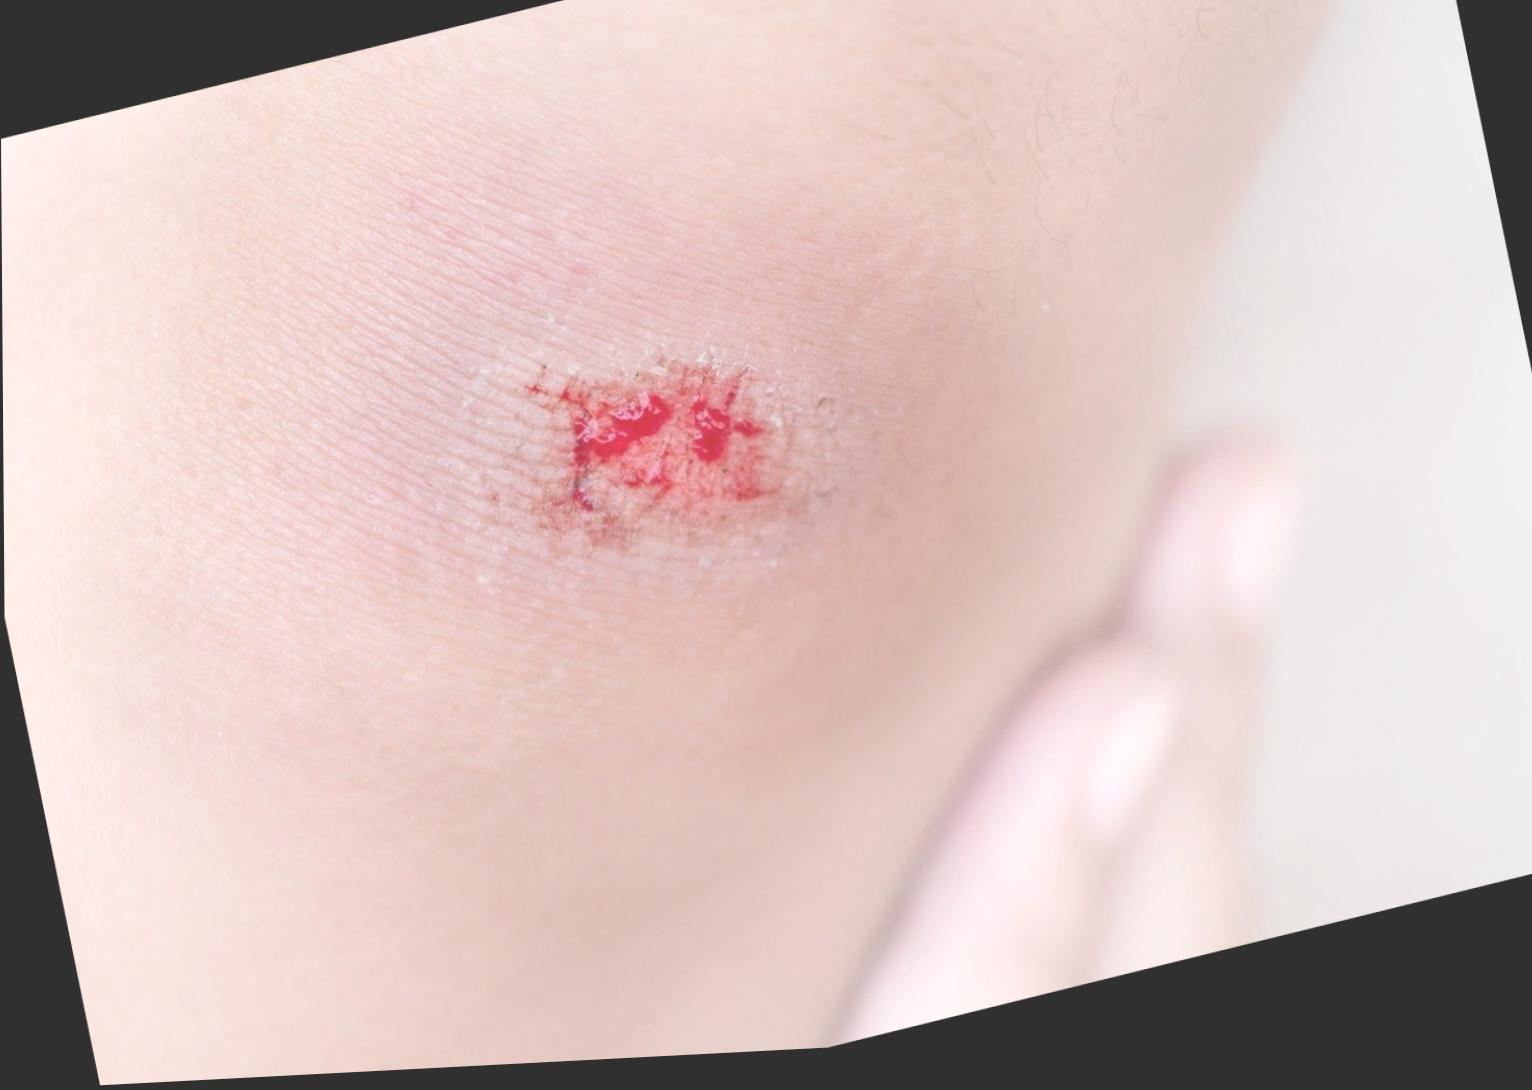Fire: (525, 369, 794, 557)
